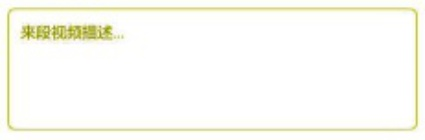EditText: (1, 1, 424, 139)
